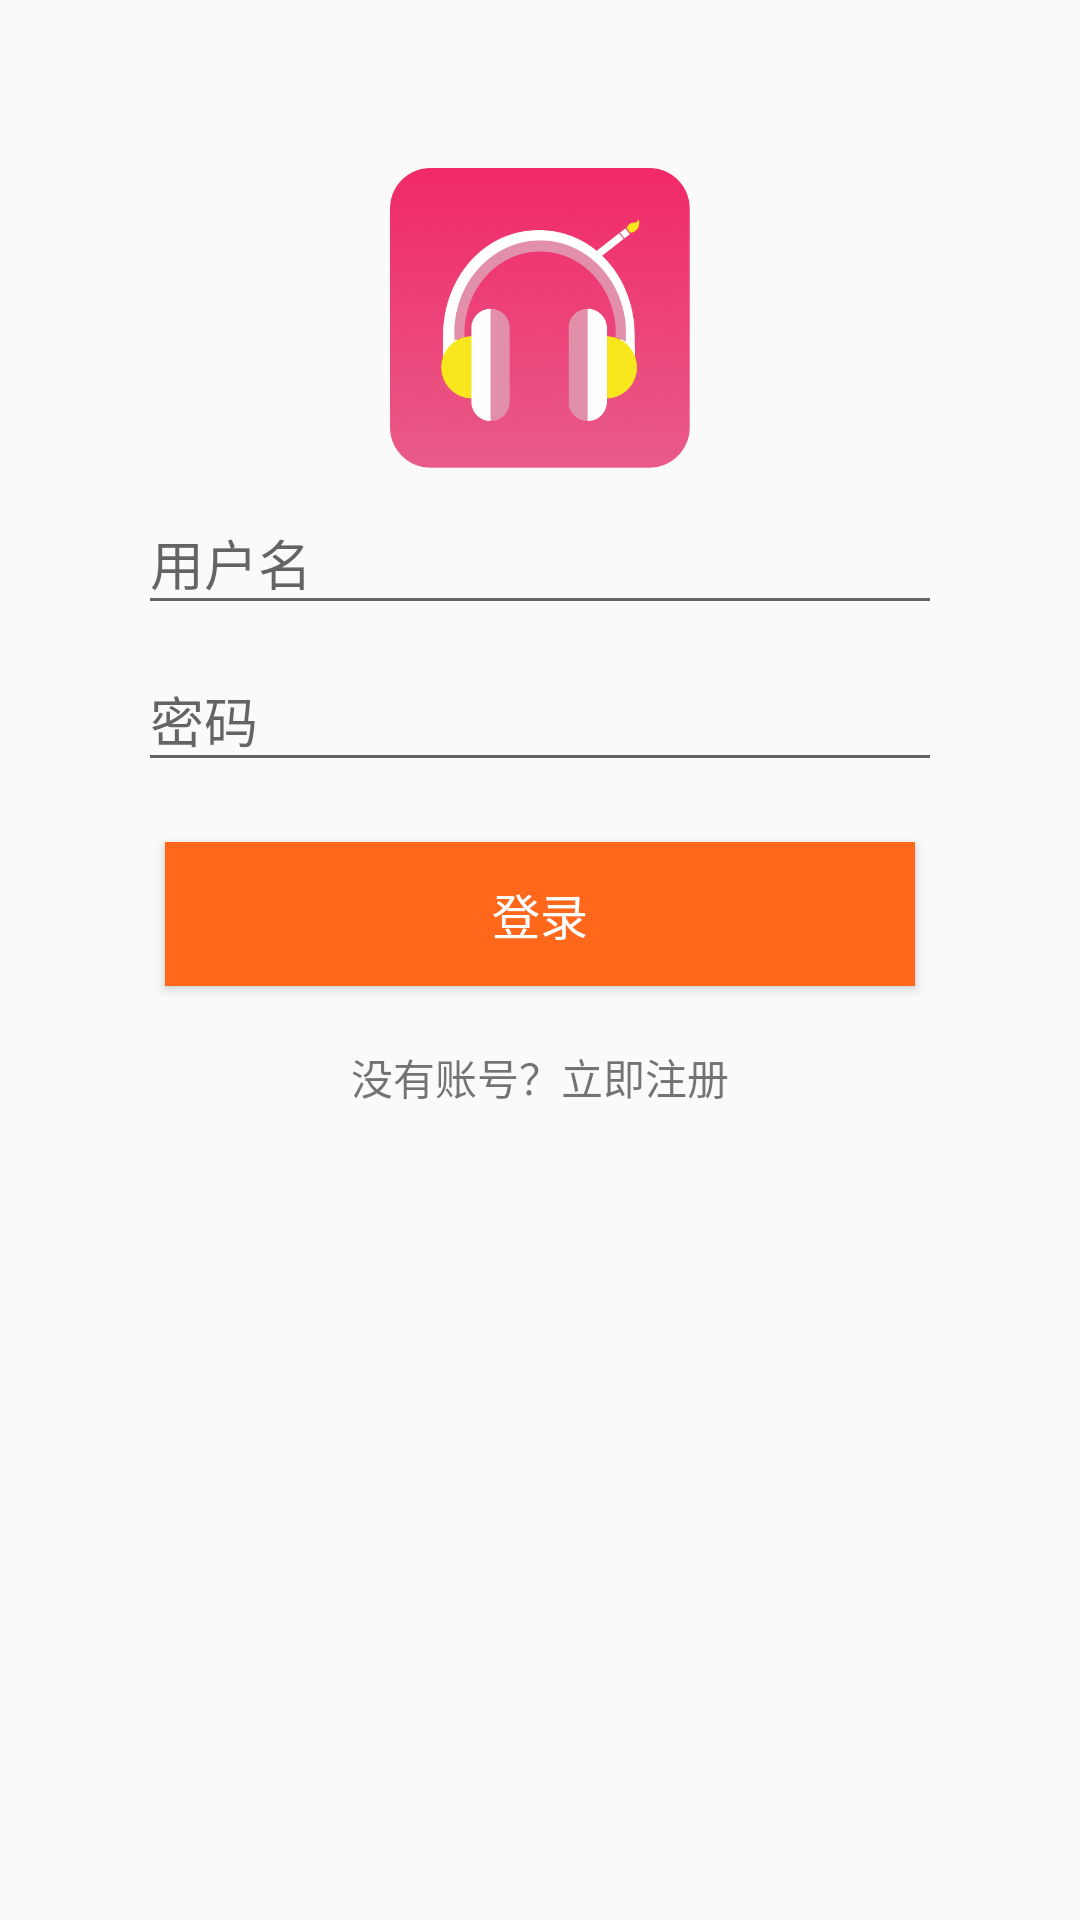

Icons on this 1080 × 1920 Android screen, each with its box as bbox=[x1, y1, x2, y2]:
appicon: bbox=[390, 168, 690, 468]
